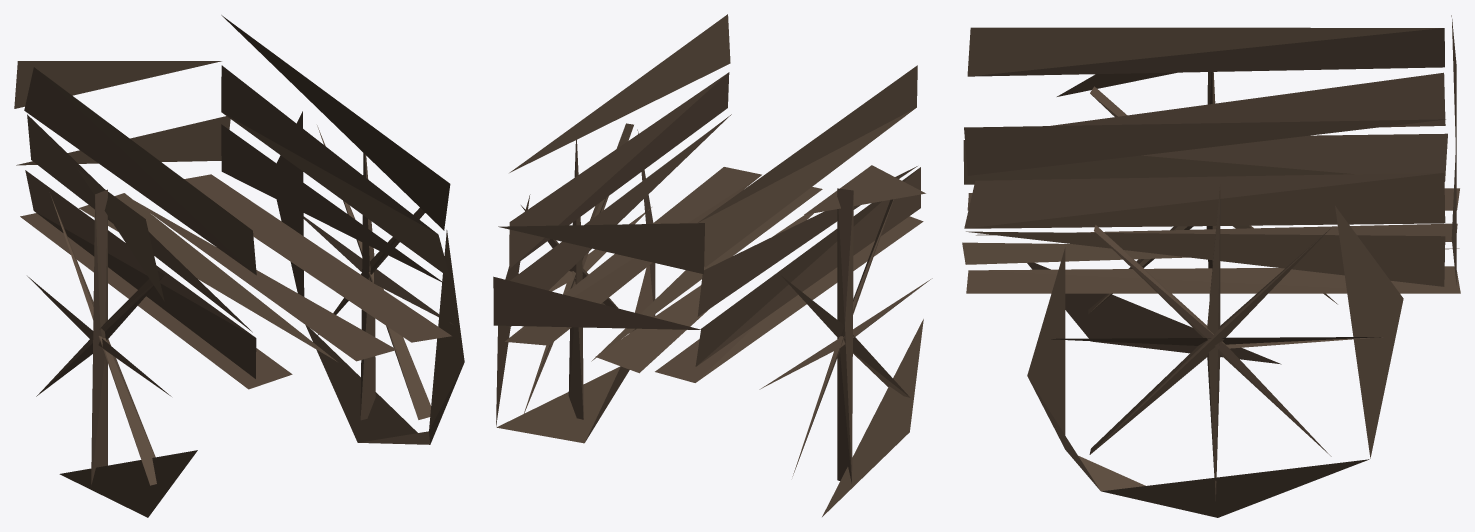
Rendered from old-cart.lod2.glb.
The picture shows the model from 3 angles, left to right: view 1: azimuth 30°, elevation 25°; view 2: azimuth 150°, elevation 25°; view 3: azimuth 270°, elevation 25°; orthographic projection. The views are drawn at different scales.
Parts seen in each view (by area): view 1: defaultMaterial; view 2: defaultMaterial; view 3: defaultMaterial.
Part boxes in pixels (box(x1,y1,x2,y2)): defaultMaterial: box(14, 15, 464, 517); defaultMaterial: box(493, 14, 932, 516); defaultMaterial: box(962, 15, 1460, 517).
Size of the model in its own units: 1.25 by 1.5 by 1.76.
